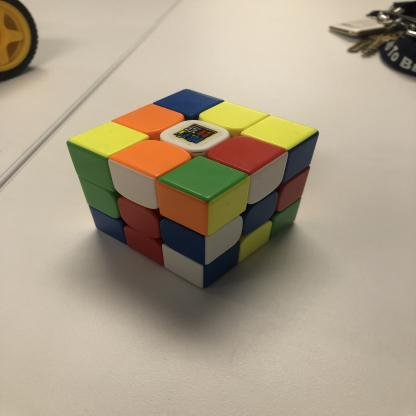UnsolvedCube: (52, 82, 341, 298)
